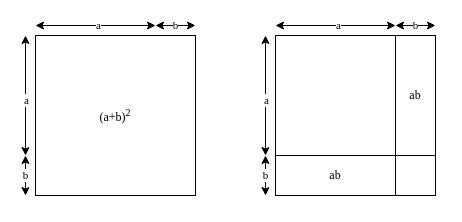
Image size: 462x222. Some labels were removed from this diagram. The centre of each missing label's shape, as x and y in pixels:
"a 2" belongs at [335,95].
"b 2" belongs at [415,175].
